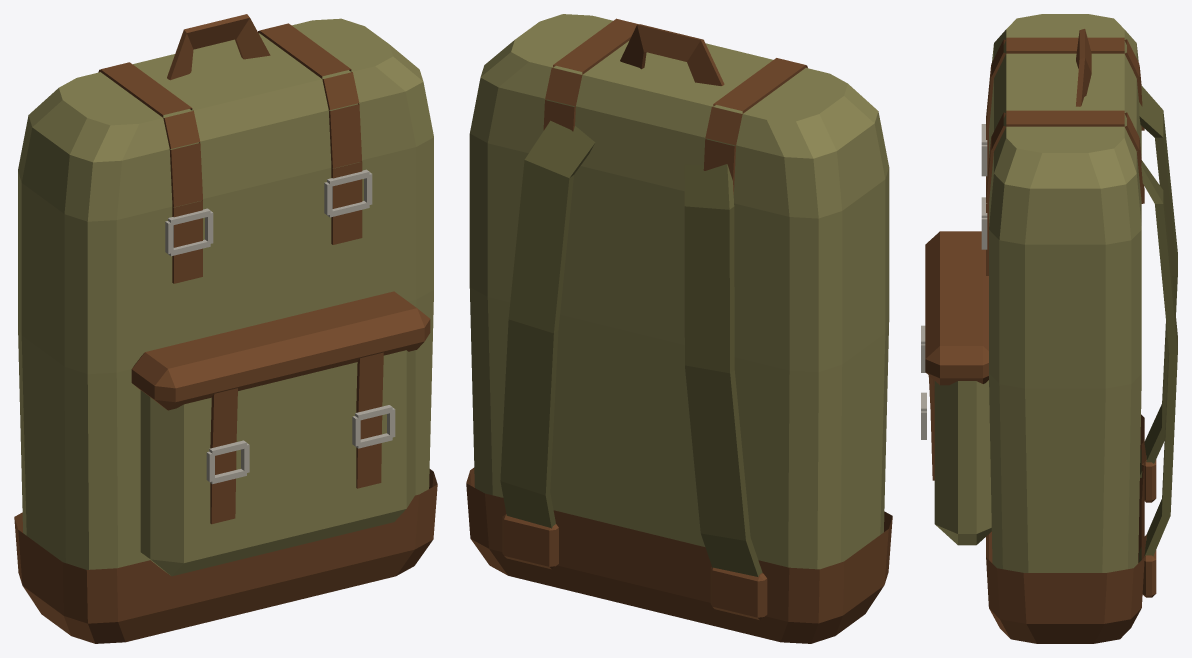
Rendered from item-pack.glb.
3 renders of one model, left to right at view 1: azimuth 30°, elevation 25°; view 2: azimuth 150°, elevation 25°; view 3: azimuth 270°, elevation 25°, orthographic. The views are drawn at different scales.
Parts seen in each view (by area): view 1: pack; view 2: pack; view 3: pack.
Boxes of the visible parts, x1,y1,x2,y2 form: pack: [14, 14, 437, 643]; pack: [466, 14, 892, 643]; pack: [921, 14, 1177, 643].
Bounding box in the file's own units: 0.28 × 0.3998 × 0.178.
